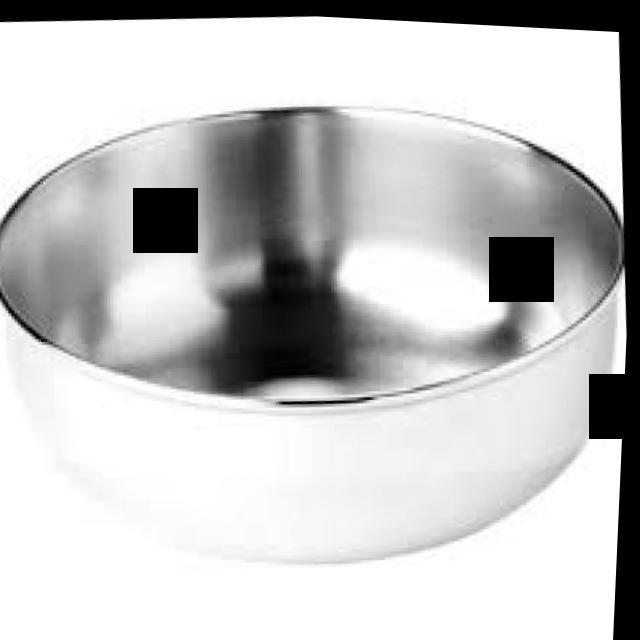Sponge Bowl: (0, 54, 638, 595)
